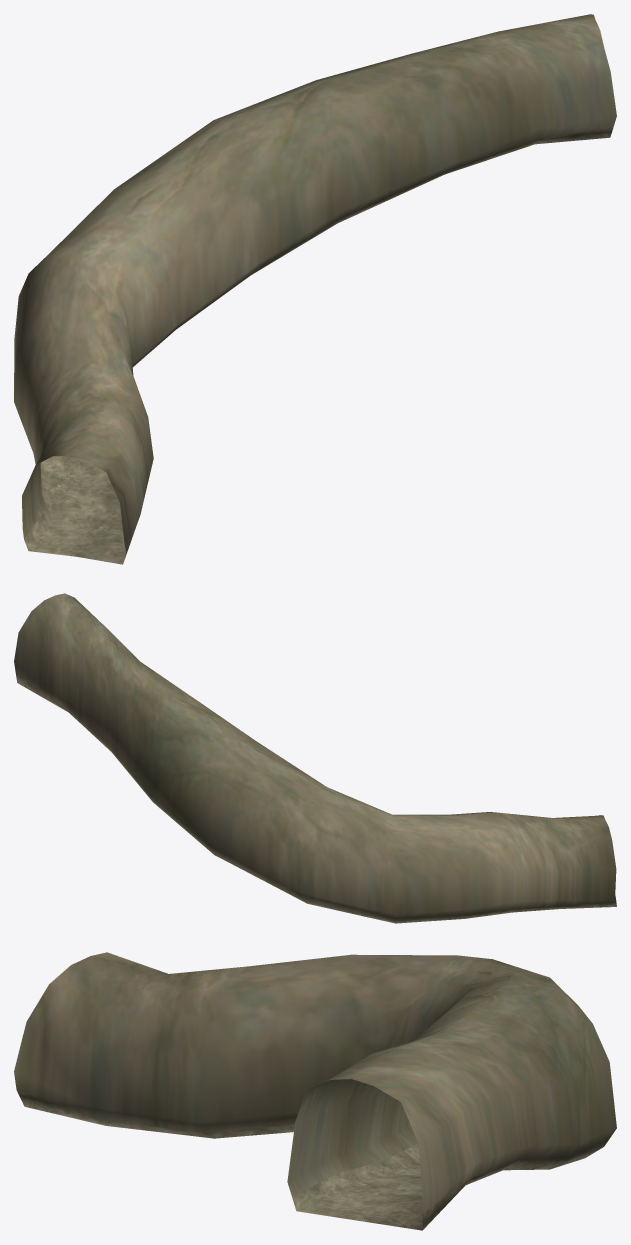
Rendered from EKH_JAIL_PS_JA_LINE318.fbx.
3 renders of one model, top to bottom at view 1: azimuth 30°, elevation 25°; view 2: azimuth 150°, elevation 25°; view 3: azimuth 270°, elevation 25°, orthographic. The views are drawn at different scales.
Parts seen in each view (by area): view 1: EKH_JAIL_PS_JA_LINE318; view 2: EKH_JAIL_PS_JA_LINE318; view 3: EKH_JAIL_PS_JA_LINE318.
Boxes of the visible parts, x1=… form: EKH_JAIL_PS_JA_LINE318: x1=14, y1=14, x2=616, y2=564; EKH_JAIL_PS_JA_LINE318: x1=14, y1=593, x2=616, y2=923; EKH_JAIL_PS_JA_LINE318: x1=14, y1=952, x2=616, y2=1230.
Bounding box in the file's own units: 187723 × 81683 × 106831.
1 material, 1 textured.
